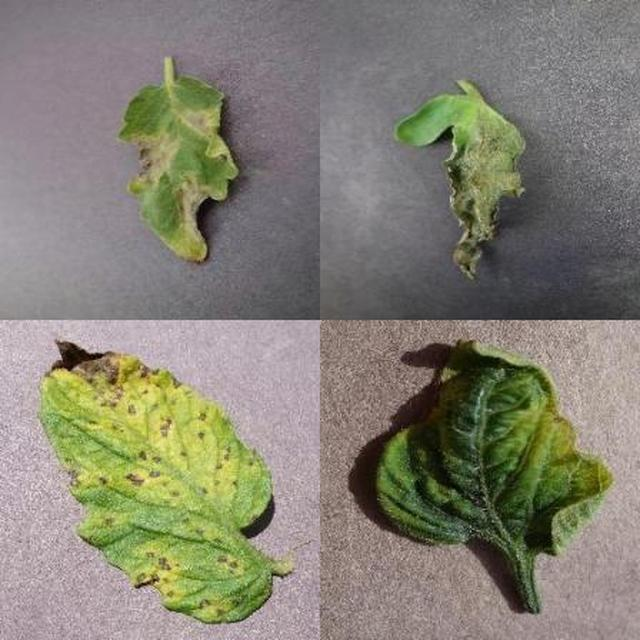Late Blight Leaf: (174, 245, 640, 640)
